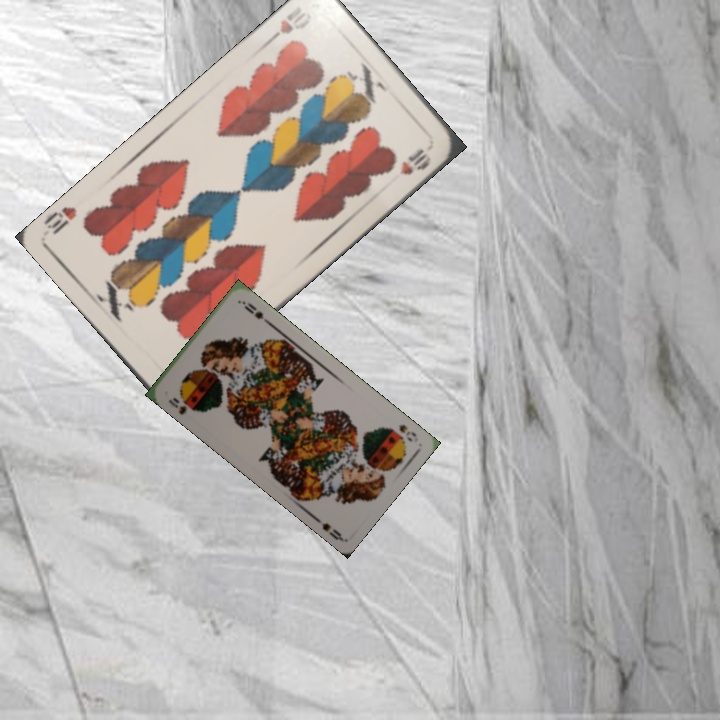H10: (263, 2, 314, 46)
SO: (164, 393, 189, 417), (395, 420, 419, 444)
